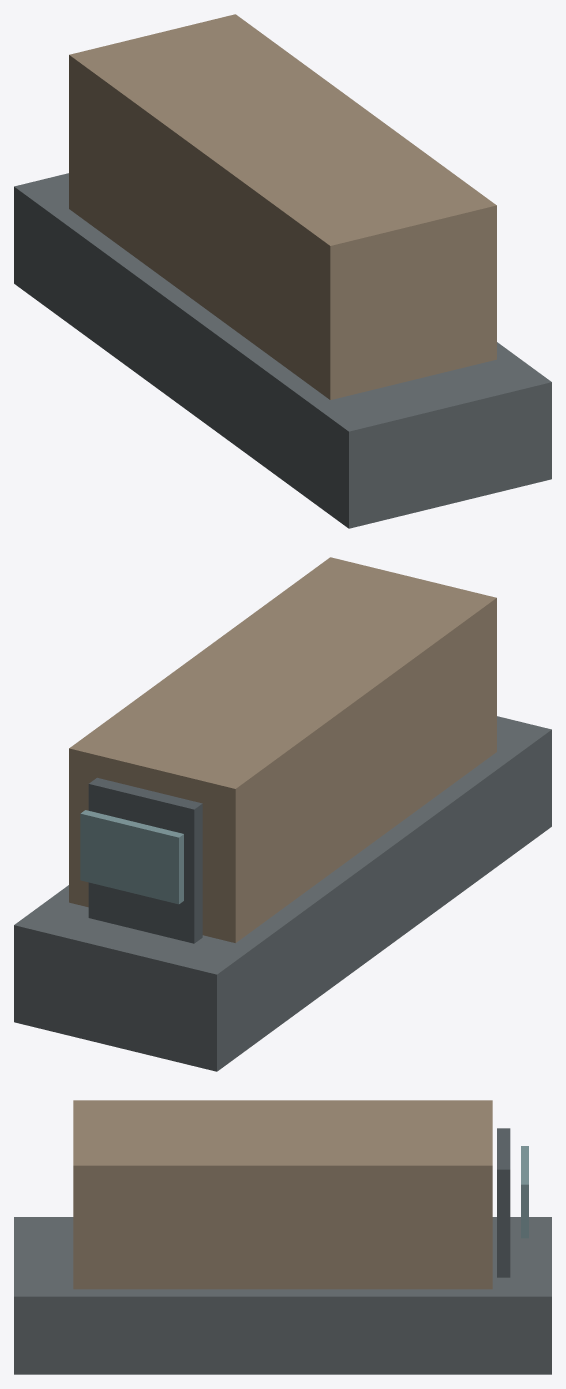
The model's file is iz3_health_stretcher_02.glb.
The picture shows the model from 3 angles, top to bottom: view 1: azimuth 30°, elevation 25°; view 2: azimuth 150°, elevation 25°; view 3: azimuth 270°, elevation 25°; orthographic projection. The views are drawn at different scales.
Parts seen in each view (by area): view 1: cabinet, base; view 2: cabinet, base, panel, display; view 3: cabinet, base, panel, display.
Boxes of the visible parts, <box> form: cabinet: <box>69,14,496,399</box>; base: <box>14,173,551,528</box>; cabinet: <box>69,557,496,942</box>; base: <box>14,716,551,1071</box>; panel: <box>88,777,202,943</box>; display: <box>80,810,183,904</box>; cabinet: <box>73,1100,492,1289</box>; base: <box>14,1217,551,1374</box>; panel: <box>497,1128,510,1277</box>; display: <box>521,1146,528,1238</box>.
Bounding box in the file's own units: 0.7 × 0.828 × 2.
